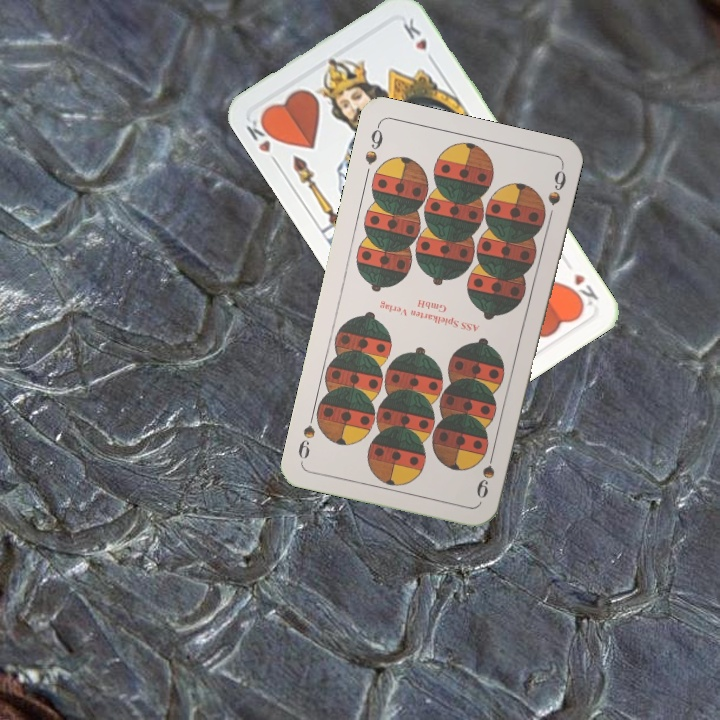HK: (242, 111, 282, 169), (564, 269, 601, 312)
S9: (472, 444, 498, 501), (361, 121, 386, 167)
